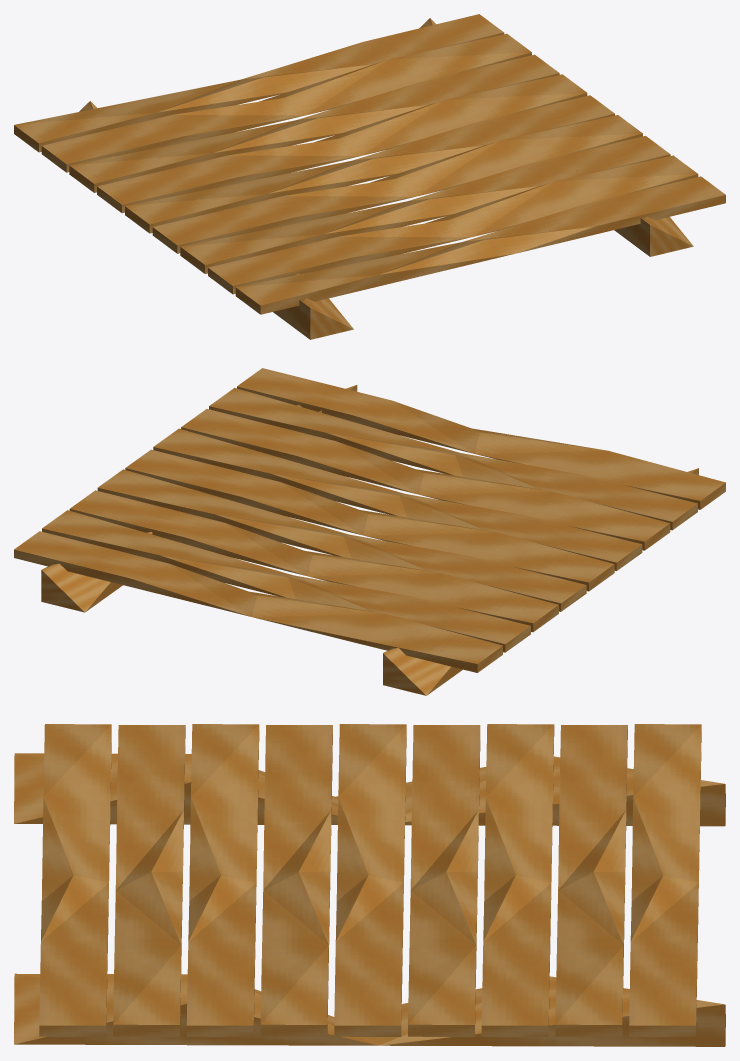
The model's file is asfasfasfasfa.fbx.
3 views of the same model, one above another, from view 1: azimuth 30°, elevation 25°; view 2: azimuth 150°, elevation 25°; view 3: azimuth 270°, elevation 25° (orthographic). The views are drawn at different scales.
Visible parts, largest first — view 1: polySurface11; view 2: polySurface11; view 3: polySurface11.
Boxes of the visible parts, x1,y1,x2,y2 form: polySurface11: [14, 14, 725, 339]; polySurface11: [14, 368, 725, 695]; polySurface11: [14, 724, 725, 1046].
Size of the model in its own units: 19.41 by 1.51 by 19.41.
